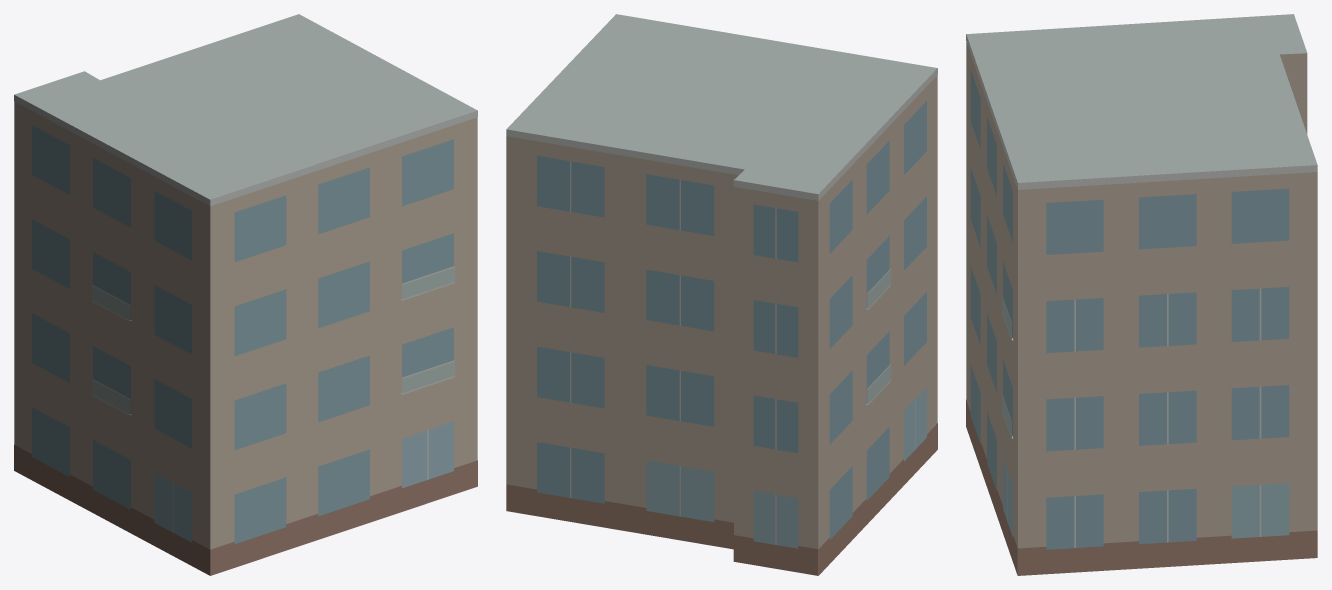
The model's file is survey-upis-32939707.glb.
3 renders of one model, left to right at view 1: azimuth 30°, elevation 25°; view 2: azimuth 150°, elevation 25°; view 3: azimuth 270°, elevation 25°, orthographic. The views are drawn at different scales.
Parts seen in each view (by area): view 1: survey-upis-32939707.tmp; view 2: survey-upis-32939707.tmp; view 3: survey-upis-32939707.tmp.
Boxes of the visible parts, <box> form: survey-upis-32939707.tmp: <box>14,14,477,575</box>; survey-upis-32939707.tmp: <box>506,14,937,575</box>; survey-upis-32939707.tmp: <box>966,14,1317,575</box>.
Bounding box in the file's own units: 12.83 × 13.9 × 11.28.
